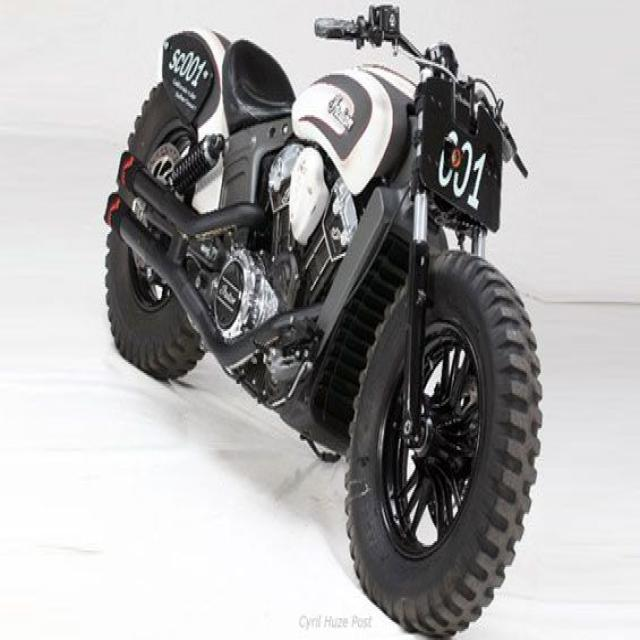motorcycle: (104, 8, 540, 635)
